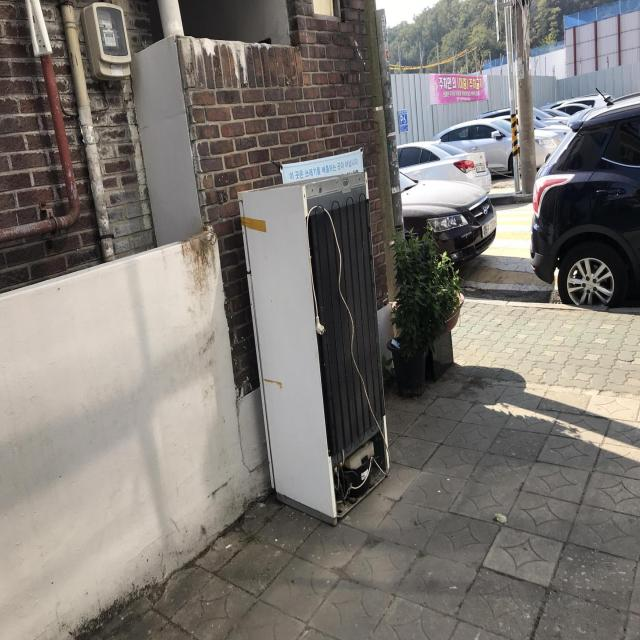refrigerator: (236, 169, 392, 531)
